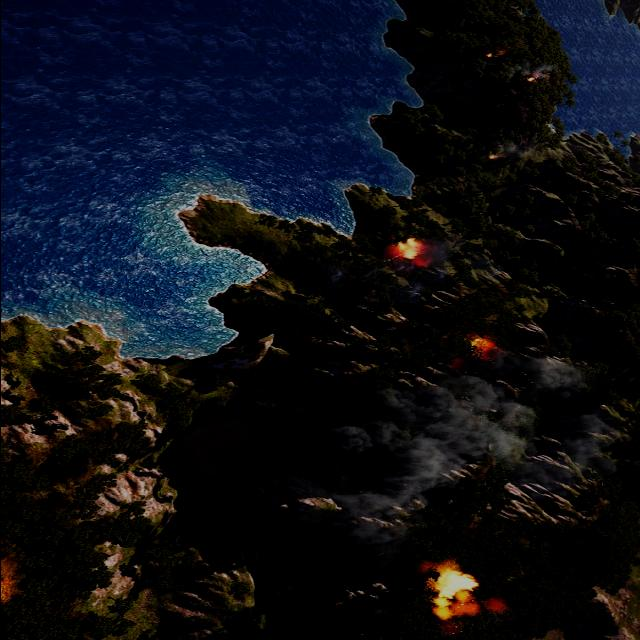fire: (432, 569, 478, 620), (464, 336, 494, 361), (398, 238, 424, 260), (486, 152, 496, 160), (526, 77, 536, 81), (486, 54, 496, 58)
smoke: (319, 349, 621, 564), (306, 237, 490, 307), (492, 138, 532, 164), (507, 63, 558, 83), (484, 596, 506, 616)
